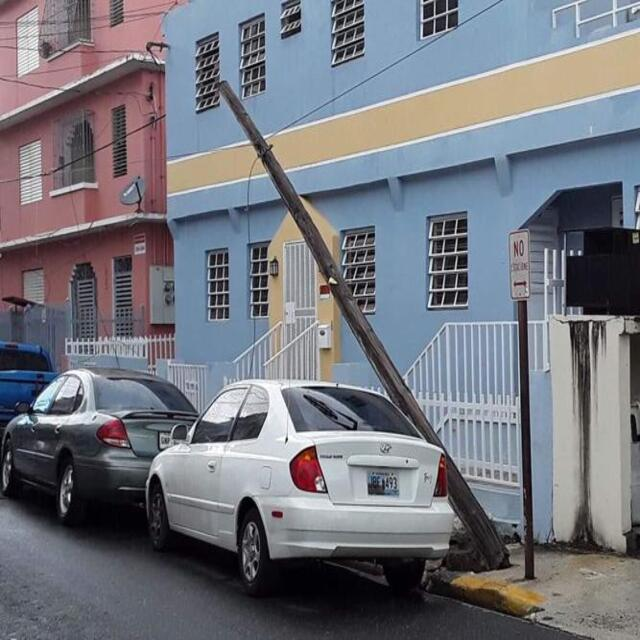Inclined Pole: (214, 78, 514, 567)
